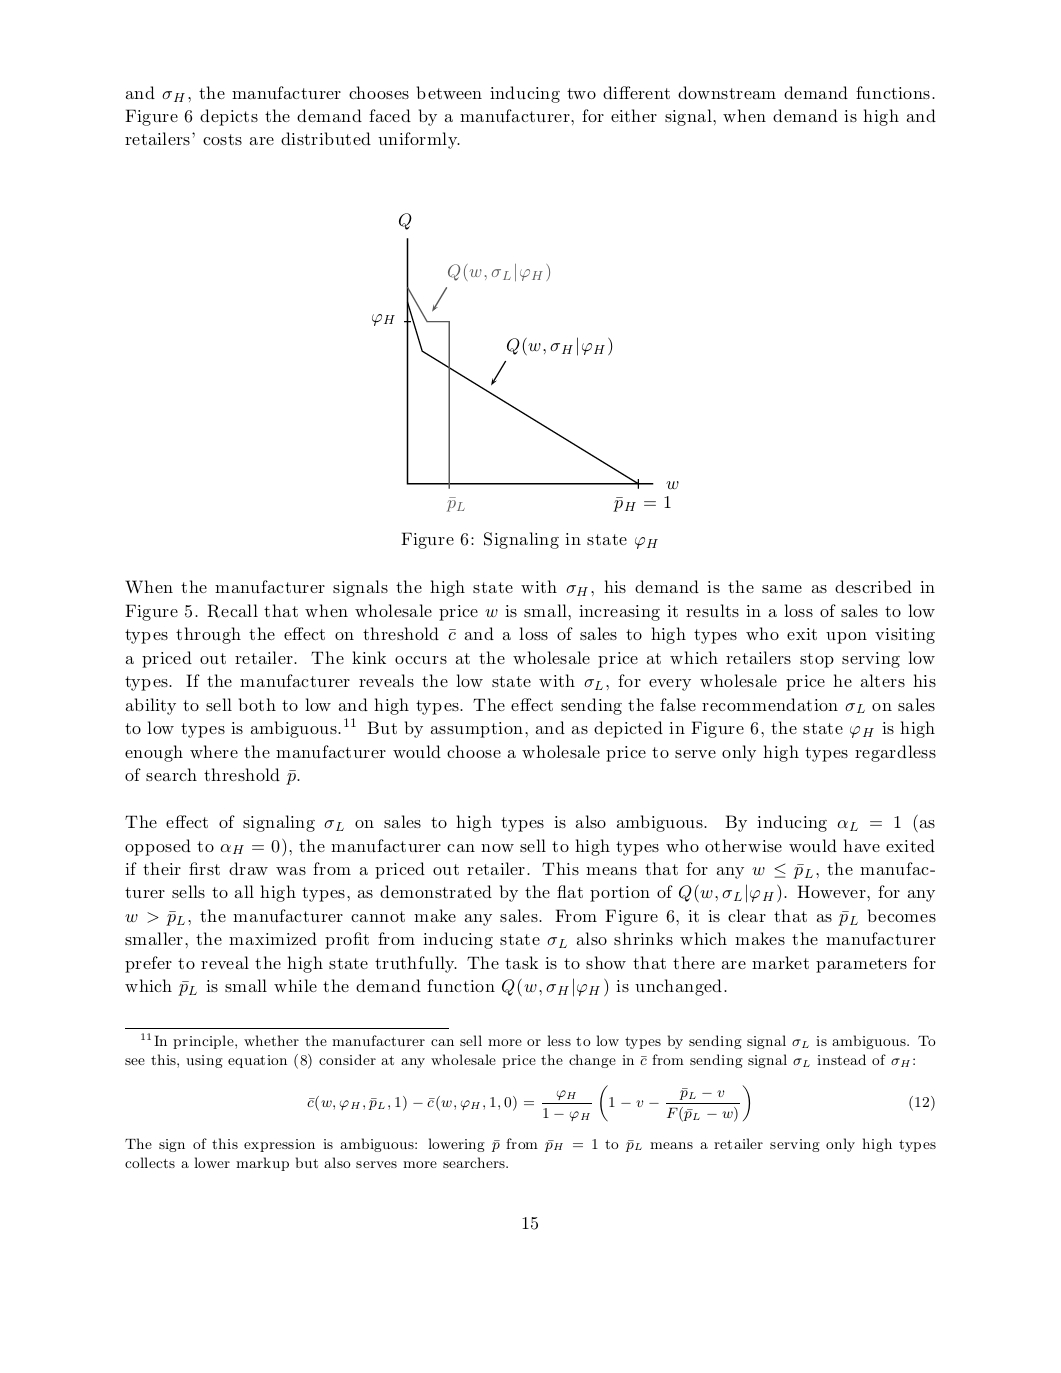figure: (372, 213, 678, 512)
formula: (306, 1084, 934, 1122)
